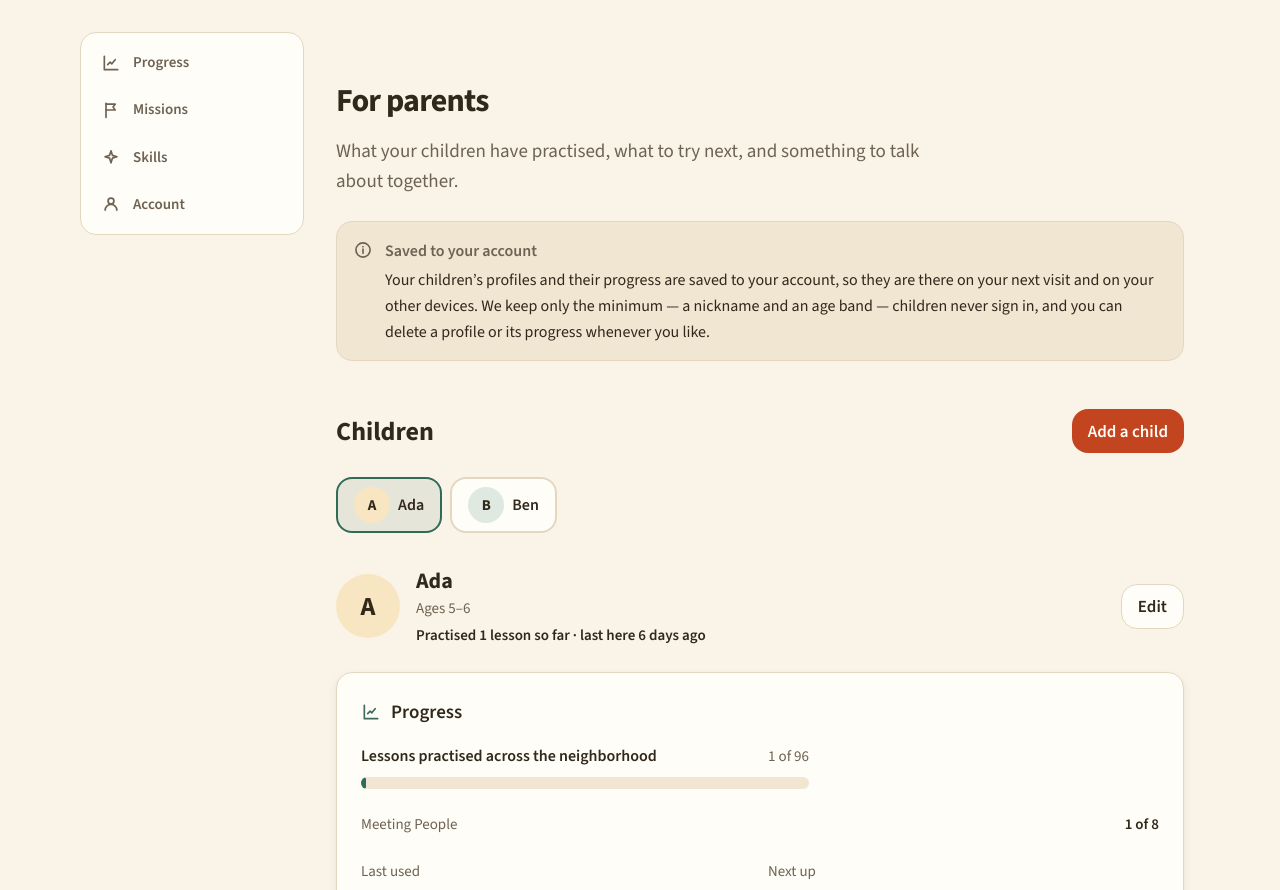
Test case: progress and missions › shows one child at a time, switched by the selector
Click the tab "B Ben".
click(504, 505)  # box top-left (450, 477), bottom-right (557, 533)
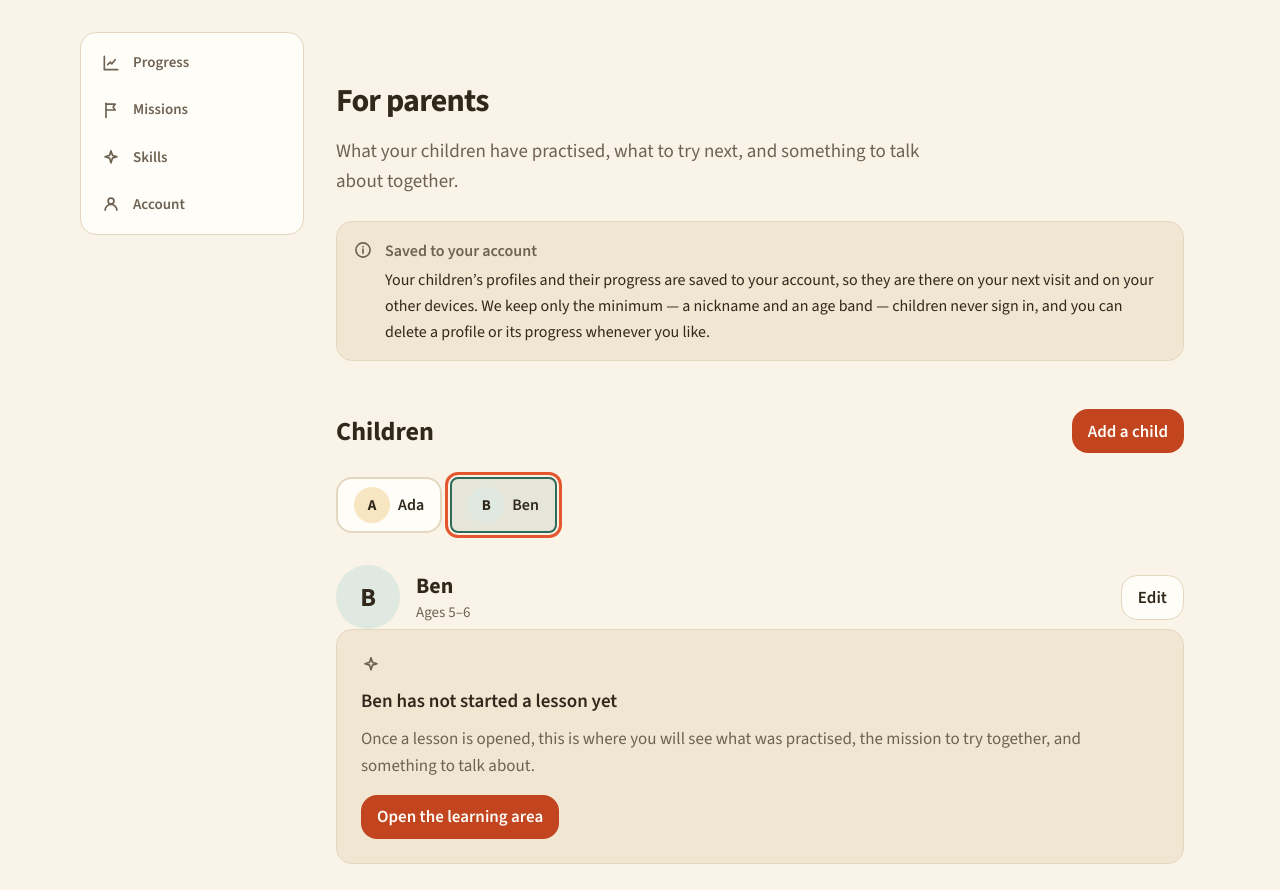
Expected: the heading "Ben has not started a lesson yet" is shown, top-left (361, 688), bottom-right (617, 713)
